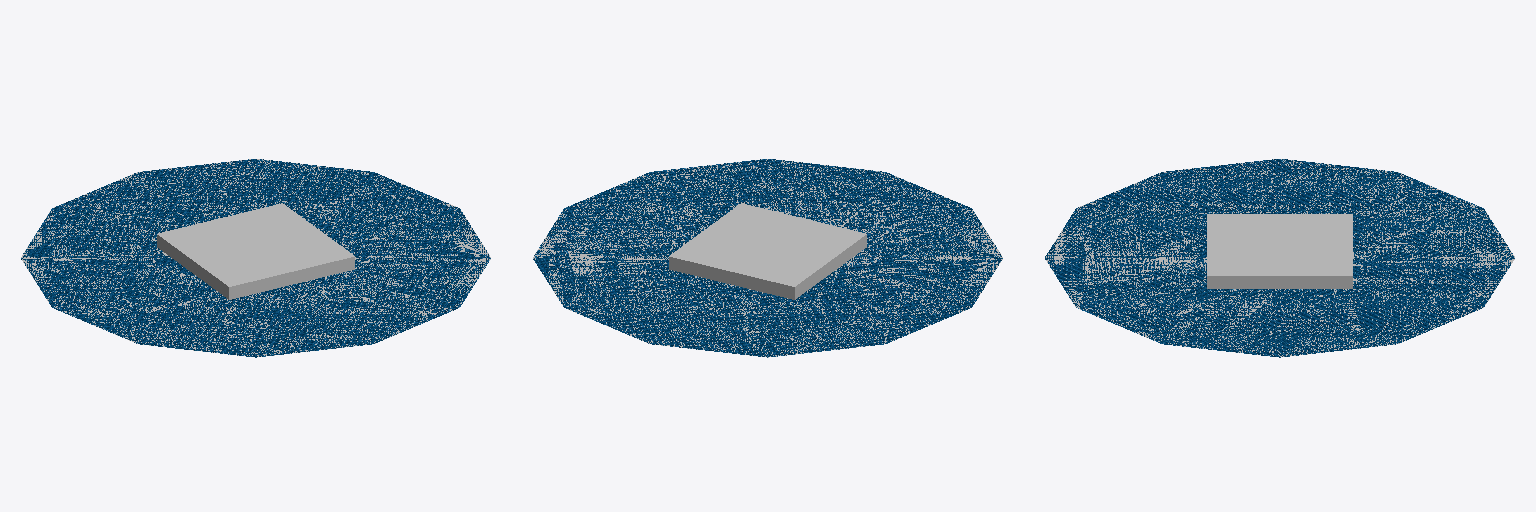
The picture shows the model from 3 angles: view 1: azimuth 30°, elevation 25°; view 2: azimuth 150°, elevation 25°; view 3: azimuth 270°, elevation 25°; orthographic projection.
Visible parts, largest first — view 1: CalmSea, CalmSeacollisionBox; view 2: CalmSea, CalmSeacollisionBox; view 3: CalmSea, CalmSeacollisionBox.
Part boxes in pixels (bbox=[...]): CalmSea: bbox=[21, 159, 490, 357]; CalmSeacollisionBox: bbox=[157, 203, 354, 299]; CalmSea: bbox=[533, 159, 1002, 357]; CalmSeacollisionBox: bbox=[669, 203, 866, 299]; CalmSea: bbox=[1045, 159, 1514, 357]; CalmSeacollisionBox: bbox=[1207, 214, 1352, 288].
Size of the model in its own units: 16102 by 822 by 16102.
5 materials, 2 textured.